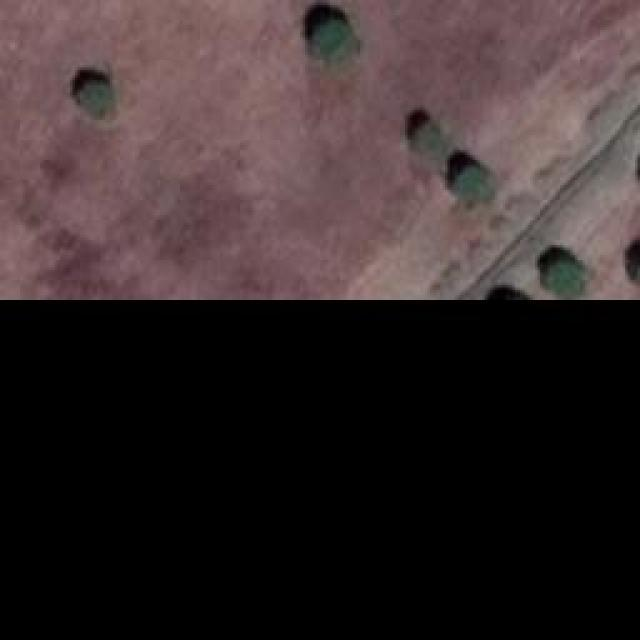Tree: (315, 18, 355, 63), (453, 165, 488, 205), (543, 260, 583, 295), (415, 123, 445, 156), (80, 80, 108, 113)
